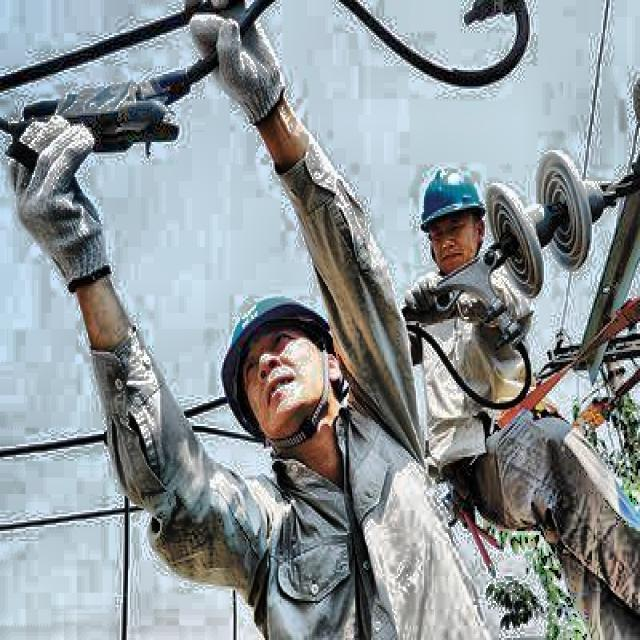helmet: (214, 272, 340, 463), (414, 165, 493, 280)
